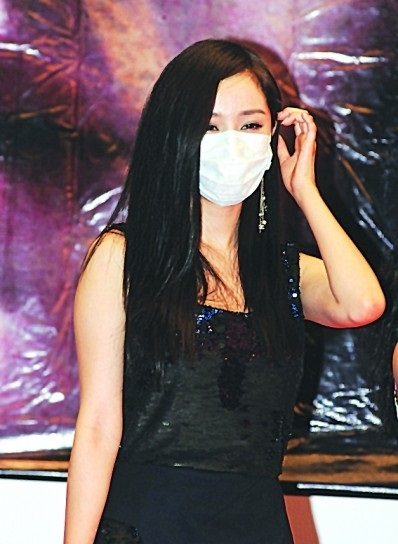face_mask: (191, 70, 270, 206)
